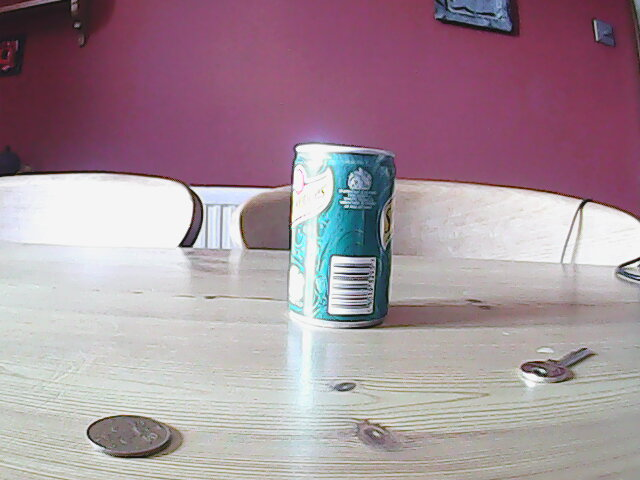Can: (287, 140, 397, 331)
Coin: (84, 413, 174, 462)
Key: (517, 343, 592, 390)
